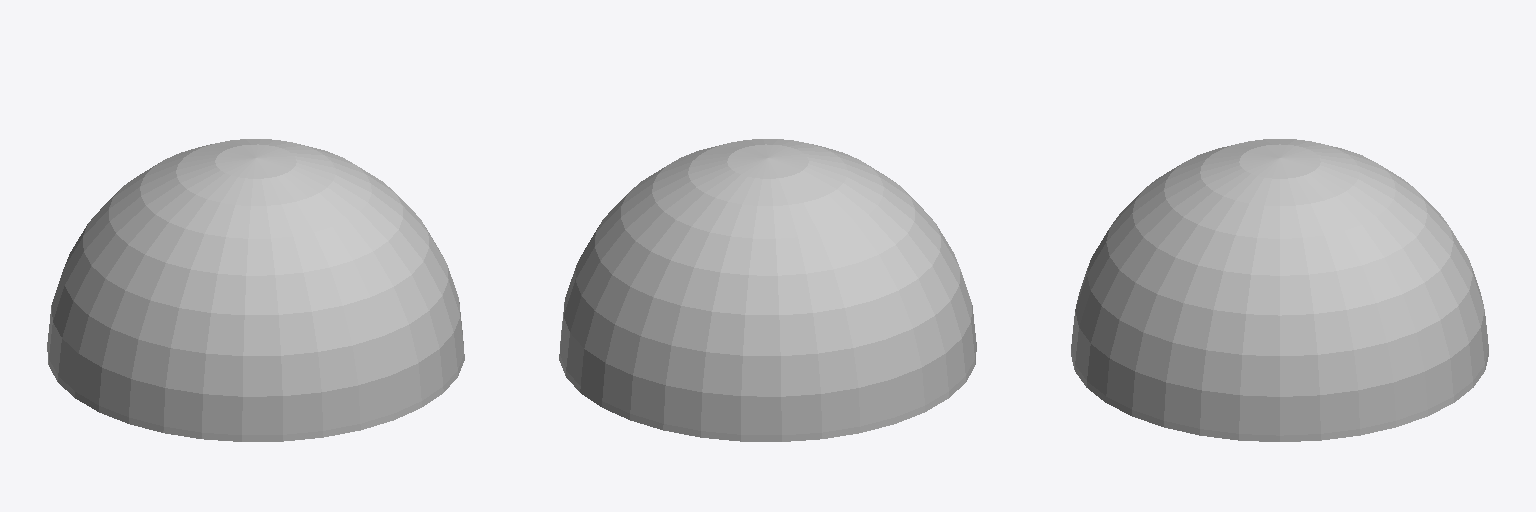
File: Orb_Lvl2_ParticleEmitter.obj
3 renders of one model, left to right at view 1: azimuth 30°, elevation 25°; view 2: azimuth 150°, elevation 25°; view 3: azimuth 270°, elevation 25°, orthographic.
Parts seen in each view (by area): view 1: Lvl2_ParticleEmitter_Sphere; view 2: Lvl2_ParticleEmitter_Sphere; view 3: Lvl2_ParticleEmitter_Sphere.
Boxes of the visible parts, <box> form: Lvl2_ParticleEmitter_Sphere: <box>47,139,464,441</box>; Lvl2_ParticleEmitter_Sphere: <box>559,139,976,441</box>; Lvl2_ParticleEmitter_Sphere: <box>1071,139,1488,441</box>.
Size of the model in its own units: 2 by 1.03 by 2.